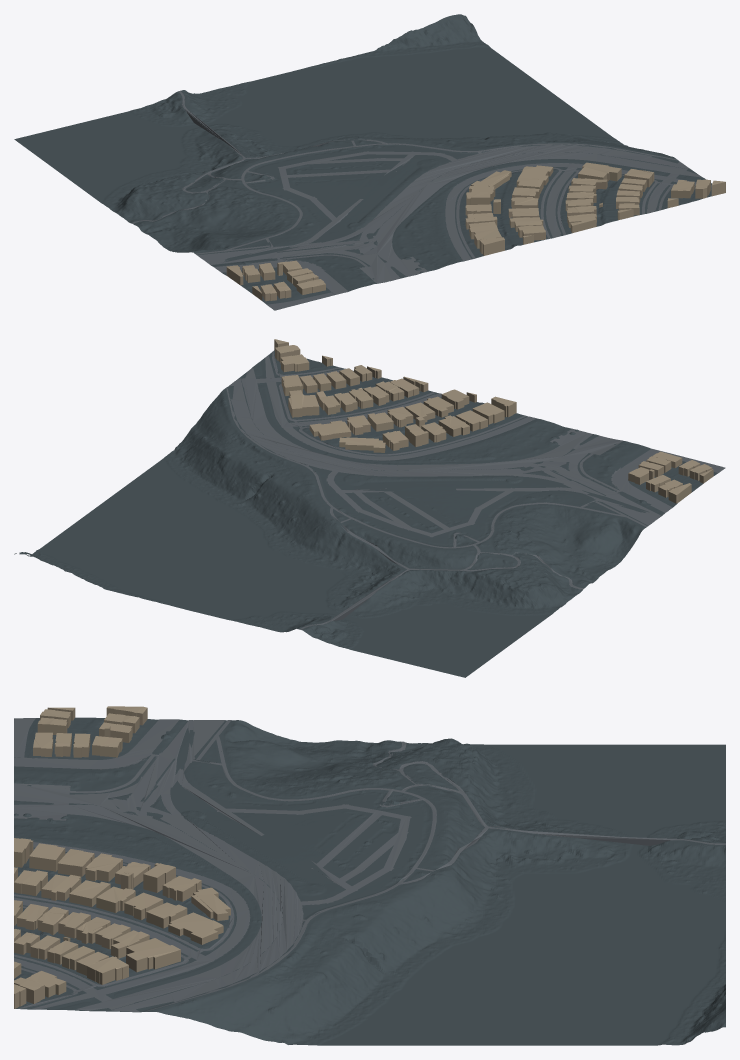
The model's file is epsg26910-1418-10874.lod0.glb.
3 views of the same model, one above another, from view 1: azimuth 30°, elevation 25°; view 2: azimuth 150°, elevation 25°; view 3: azimuth 270°, elevation 25° (orthographic). The views are drawn at different scales.
Parts seen in each view (by area): view 1: epsg26910-1418-10874-lod0; view 2: epsg26910-1418-10874-lod0; view 3: epsg26910-1418-10874-lod0.
Part boxes in pixels (bbox=[...]): epsg26910-1418-10874-lod0: bbox=[14, 14, 725, 310]; epsg26910-1418-10874-lod0: bbox=[14, 339, 725, 677]; epsg26910-1418-10874-lod0: bbox=[14, 706, 725, 1045].
Size of the model in its own units: 384 by 30.99 by 384.
